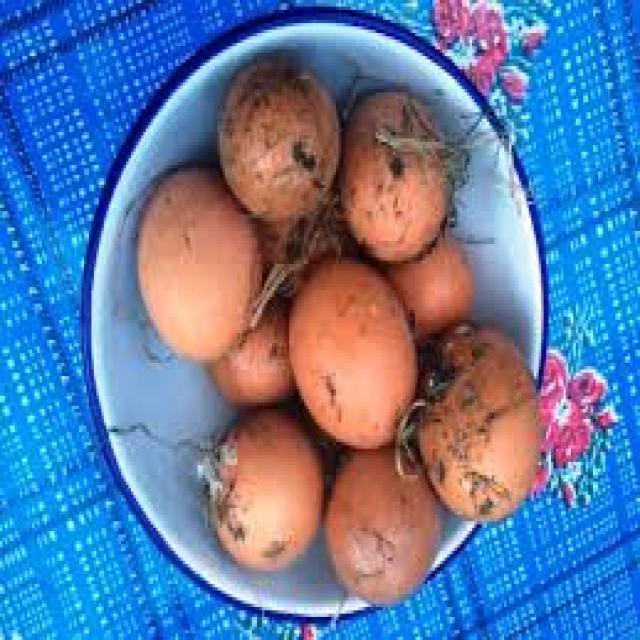Dirt Stained Egg: (344, 71, 475, 269), (429, 311, 548, 513), (230, 53, 352, 222)
